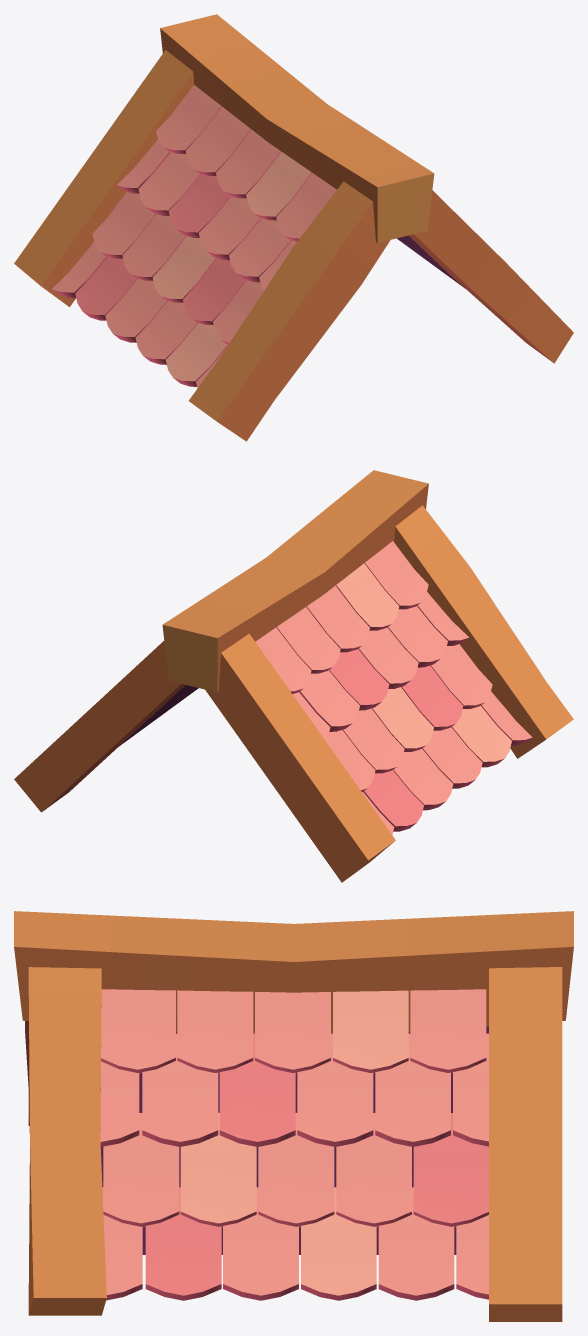
File: Roof01_Pink_Wood.glb
3 renders of one model, top to bottom at view 1: azimuth 30°, elevation 25°; view 2: azimuth 150°, elevation 25°; view 3: azimuth 270°, elevation 25°, orthographic. The views are drawn at different scales.
Visible parts, largest first — view 1: Roof01_Pink_Wood; view 2: Roof01_Pink_Wood; view 3: Roof01_Pink_Wood.
Part boxes in pixels (left/top/right/bottom): Roof01_Pink_Wood: left=14, top=14, right=573, bottom=441; Roof01_Pink_Wood: left=14, top=470, right=573, bottom=882; Roof01_Pink_Wood: left=14, top=911, right=573, bottom=1321.
Size of the model in its own units: 2.41 by 1.43 by 2.46.
Materials: 1 (1 with a texture image).
